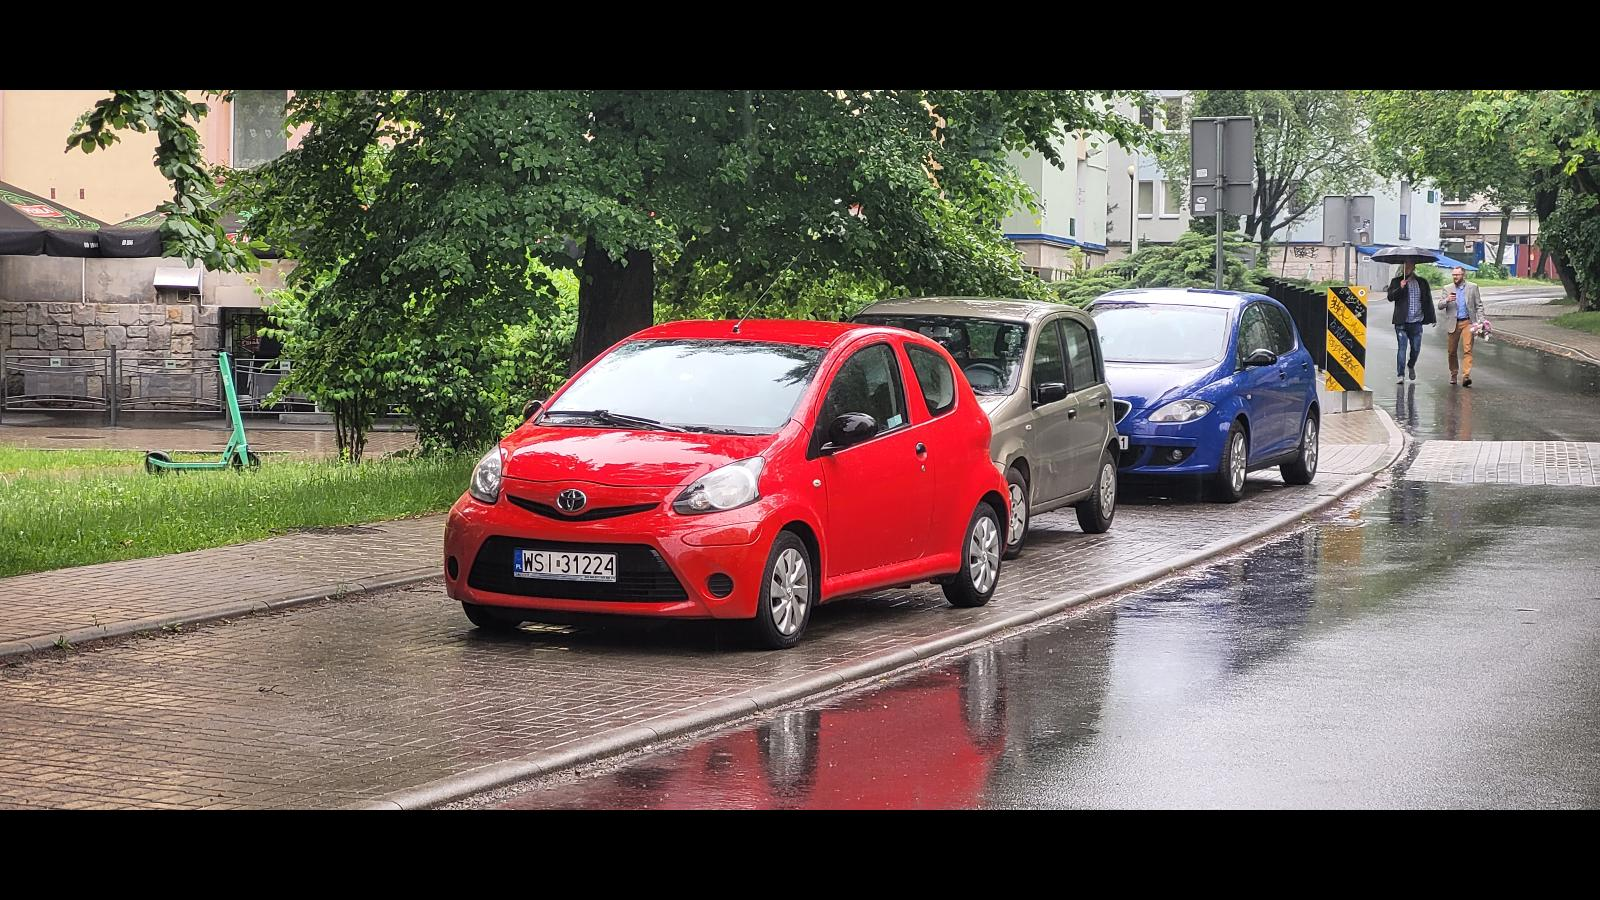plates: (514, 548, 618, 582)
